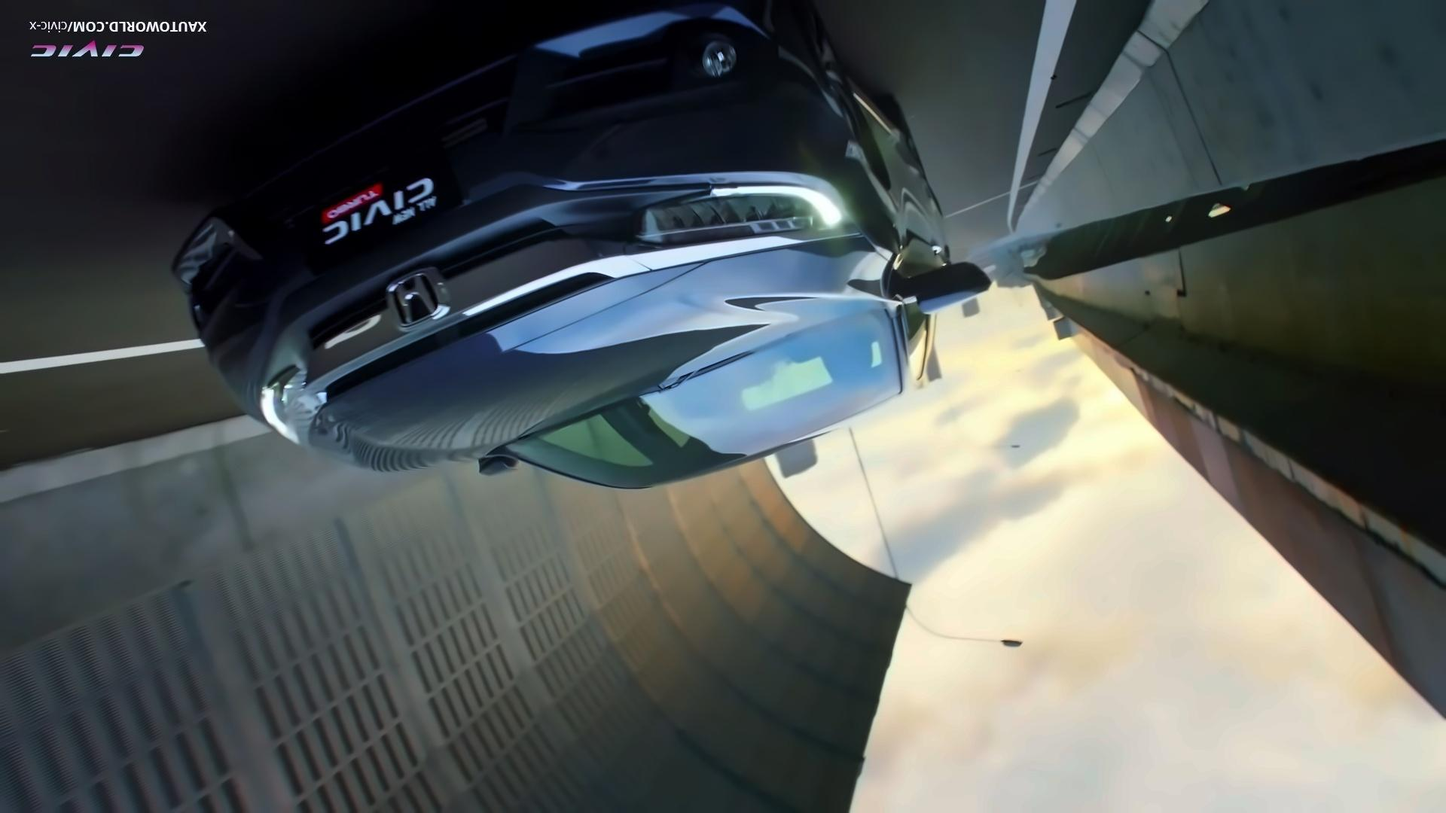Car hood: (311, 222, 888, 481)
Front bumper: (133, 6, 854, 394)
Headlight - -L-: (258, 353, 330, 452)
Headlight - -R-: (638, 183, 846, 249)
Side bumper - -R-: (829, 33, 951, 212)
Side mirror - -R-: (891, 262, 999, 317)
